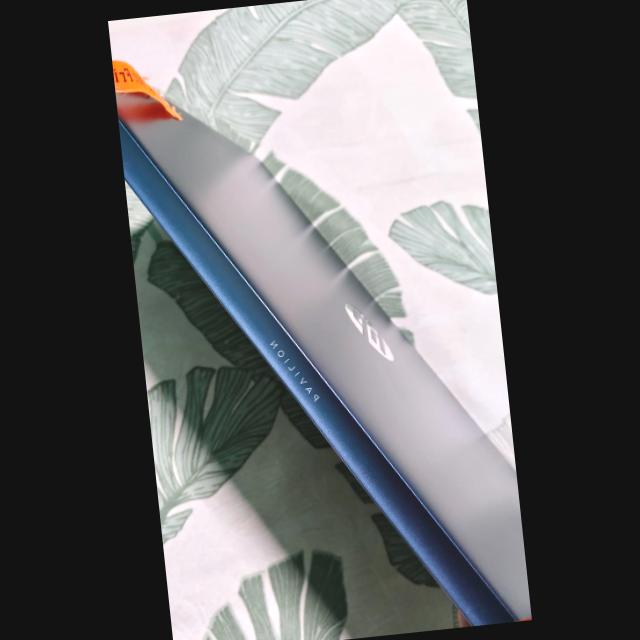laptop: (118, 61, 509, 640)
